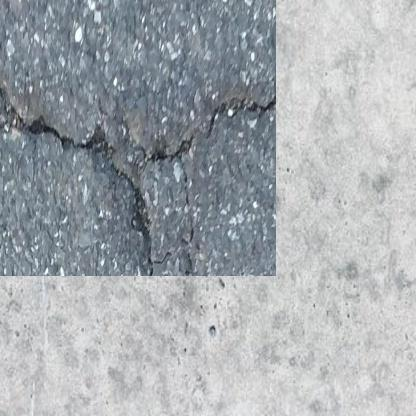Cracks: (0, 64, 154, 255), (133, 91, 255, 152)
